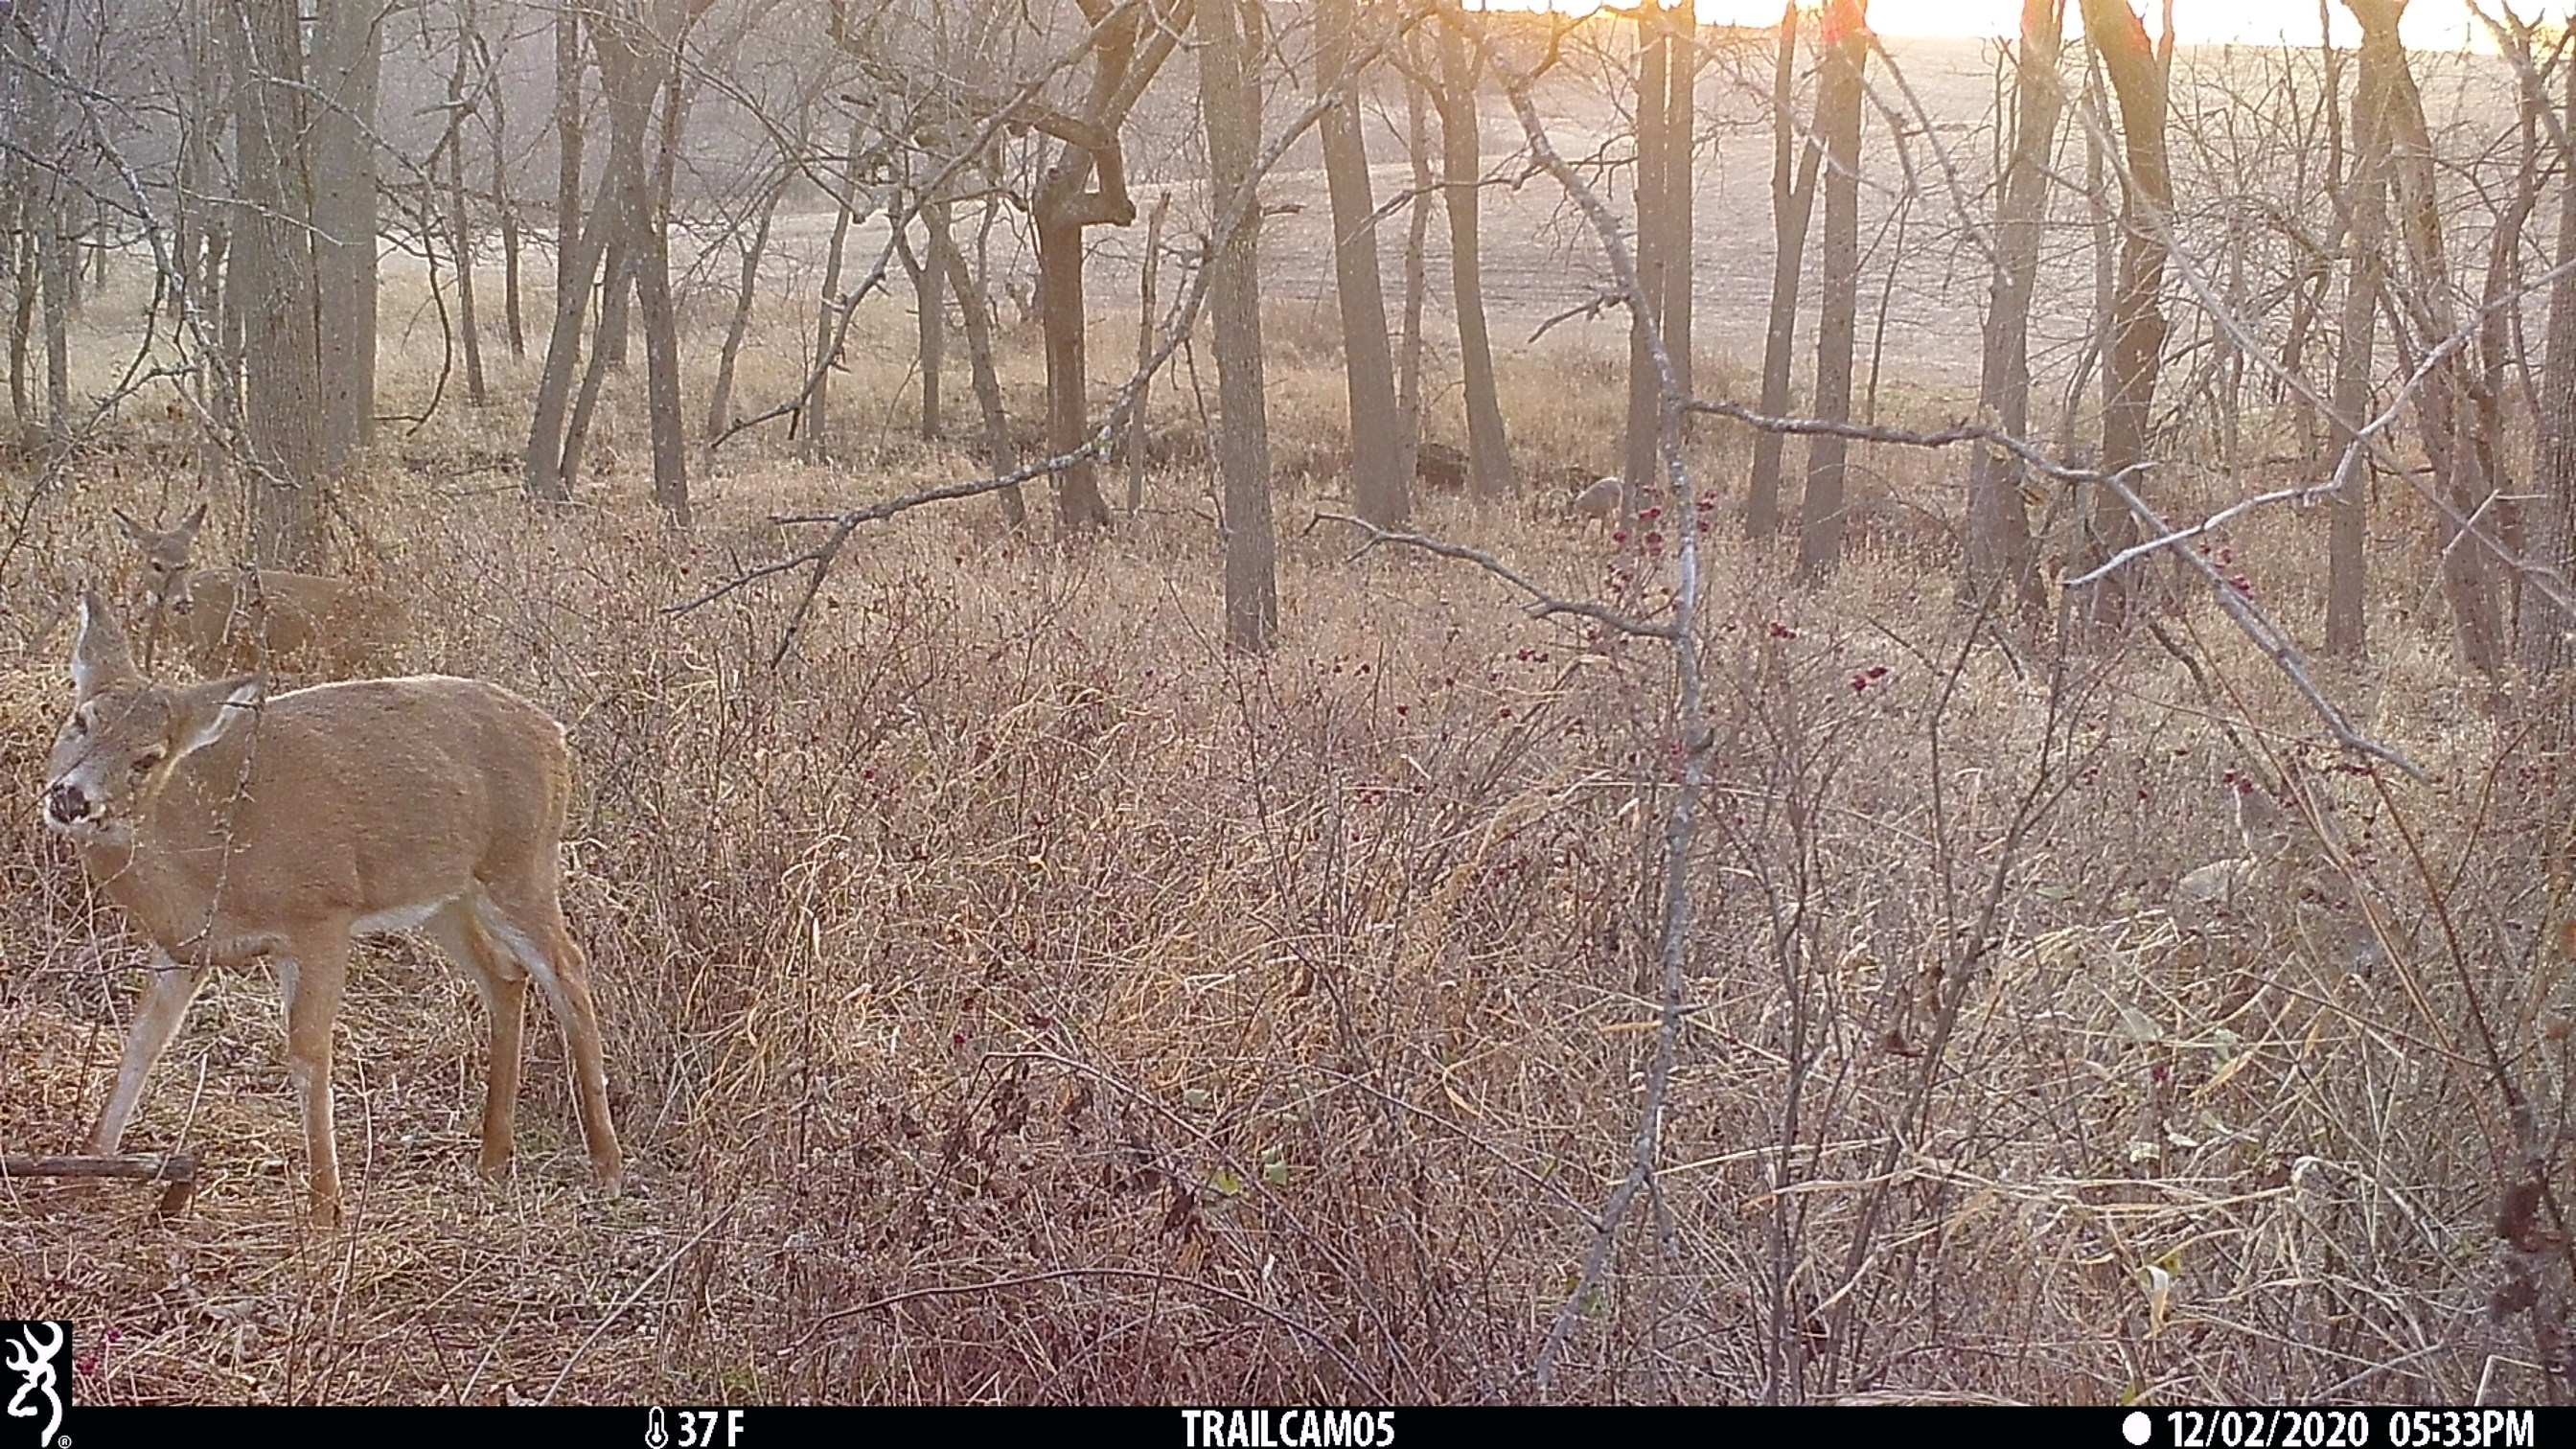Deer: (2167, 764, 2388, 975)
DeerDoe: (27, 591, 635, 1194), (111, 502, 412, 686)
